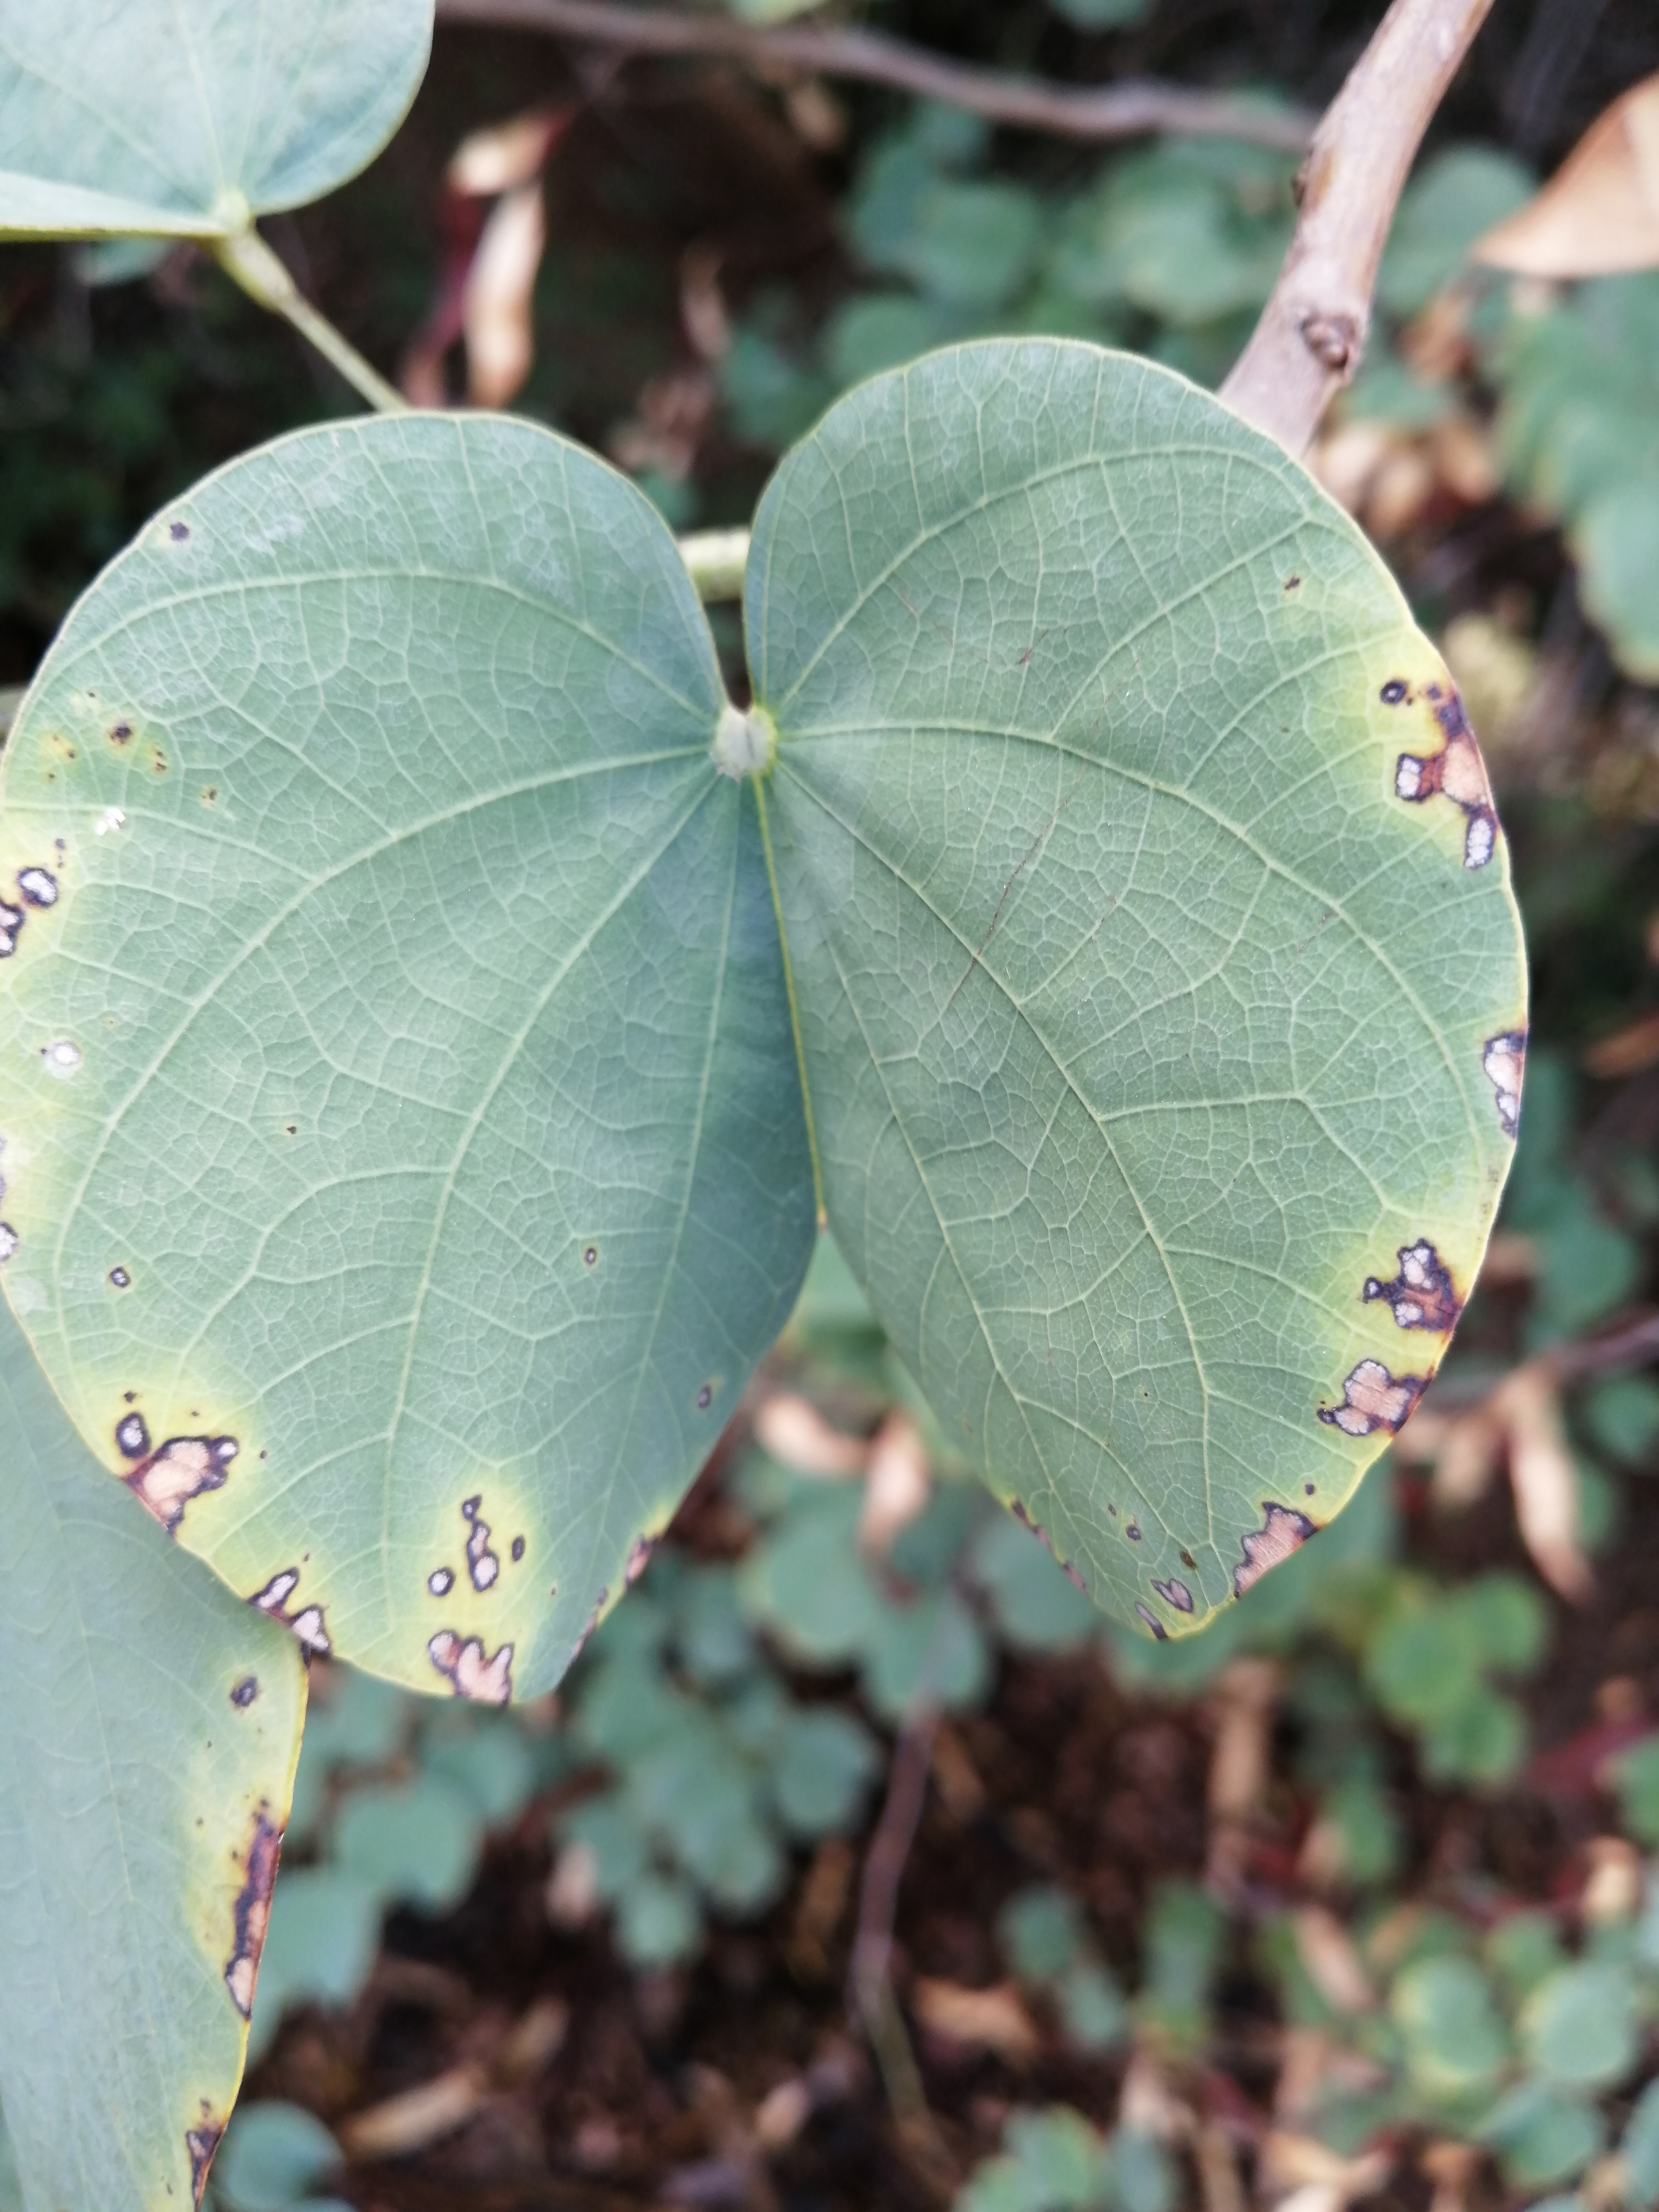nothealthy: (17, 381, 1554, 1742)
